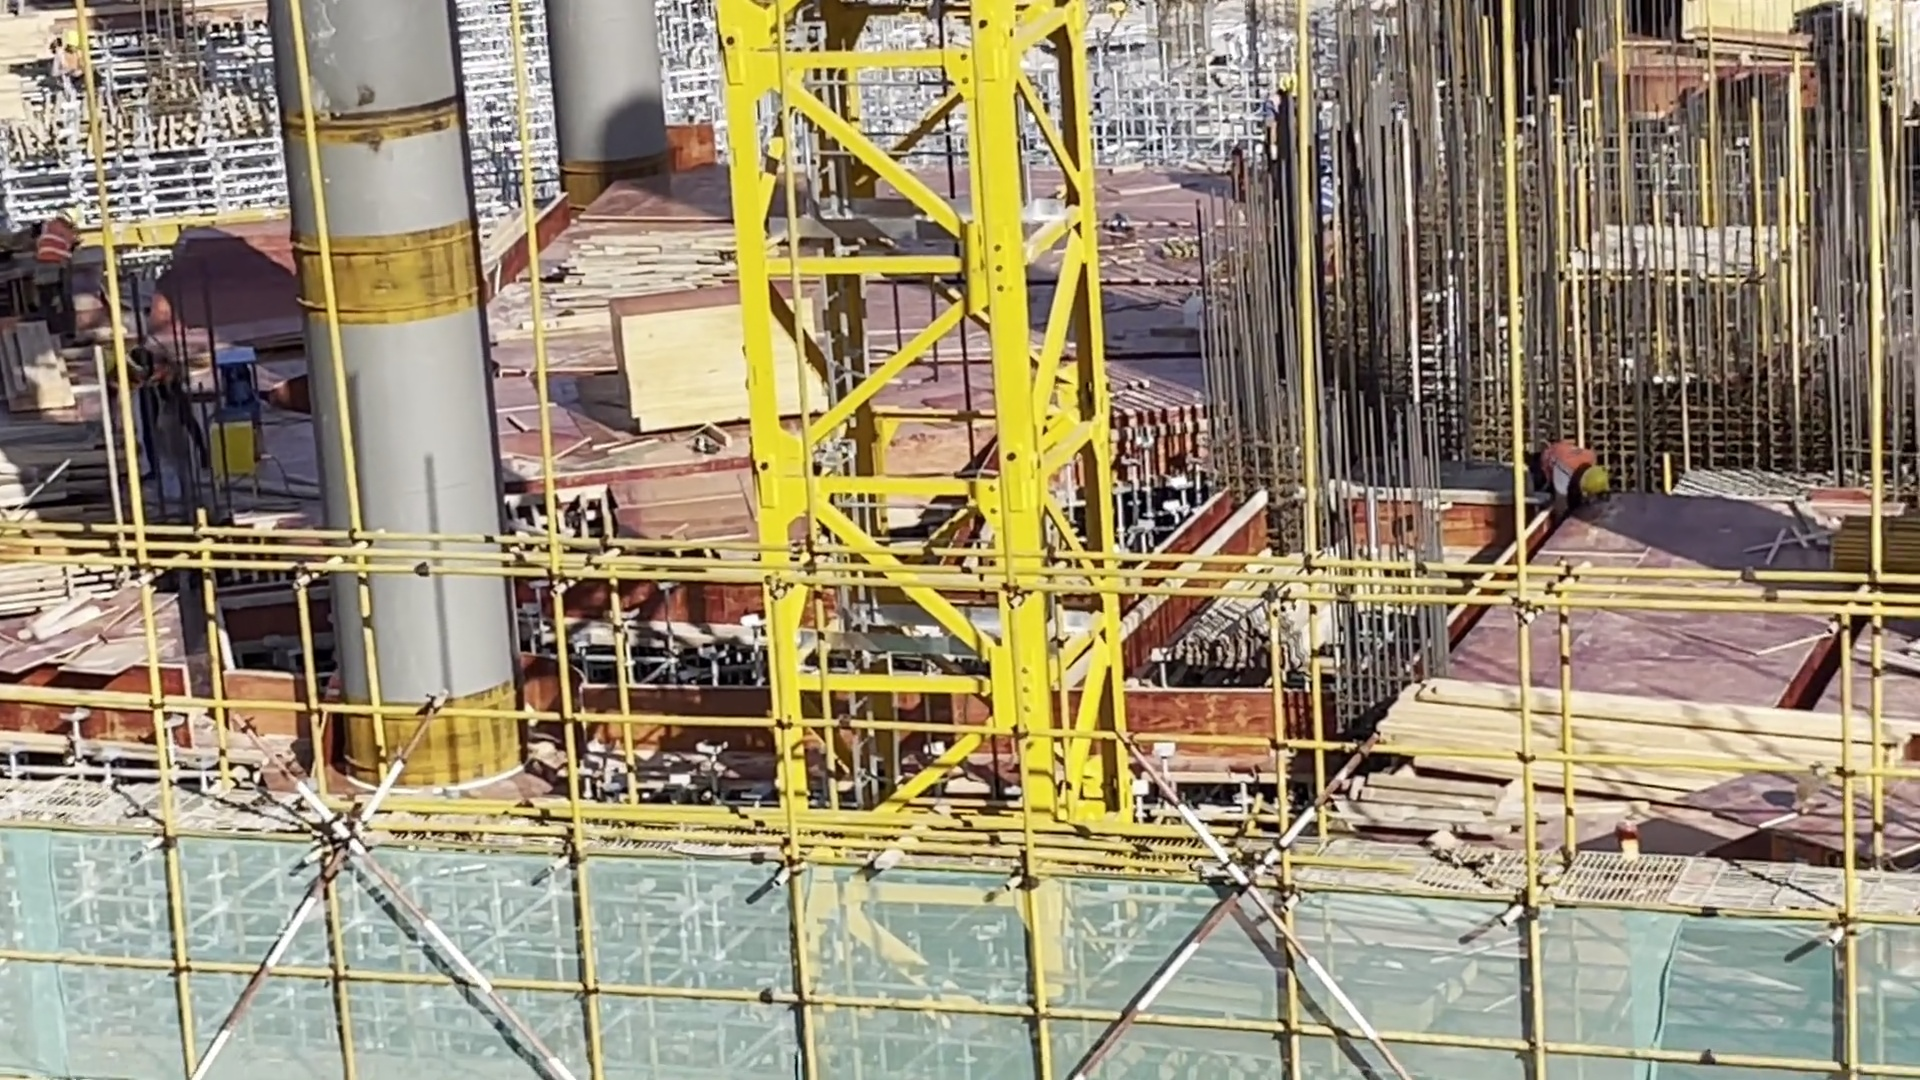board: (606, 286, 840, 434)
helmet: (1576, 460, 1612, 499)
person: (133, 295, 208, 490), (33, 199, 90, 366), (1525, 430, 1619, 522)
vest: (1543, 437, 1602, 491), (35, 217, 77, 273)
wood: (1375, 669, 1915, 826), (1, 409, 111, 508), (4, 327, 70, 416)
